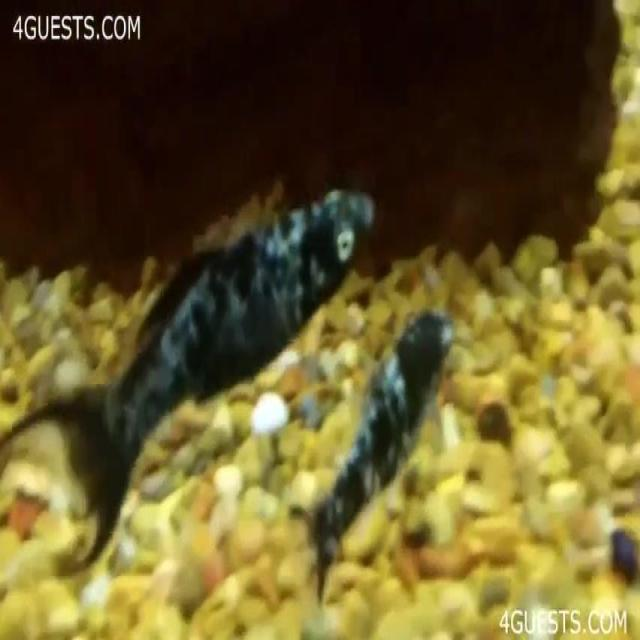PlatyFish: (0, 171, 387, 638), (286, 283, 470, 625)
